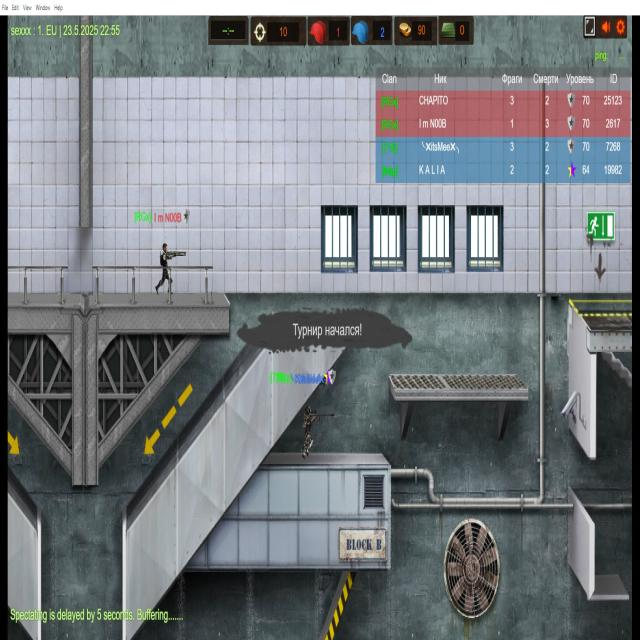enemy: (152, 241, 178, 297), (298, 399, 321, 462)
